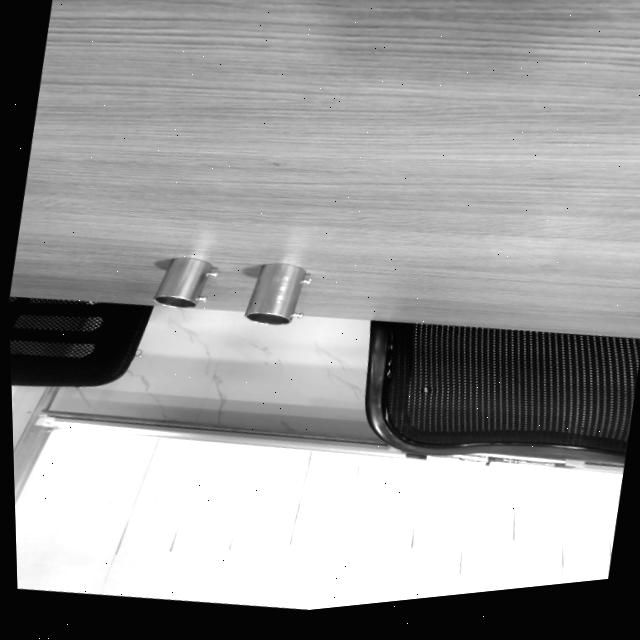Co_Lon: (243, 255, 315, 335)
Co_Nho: (149, 246, 219, 320)
